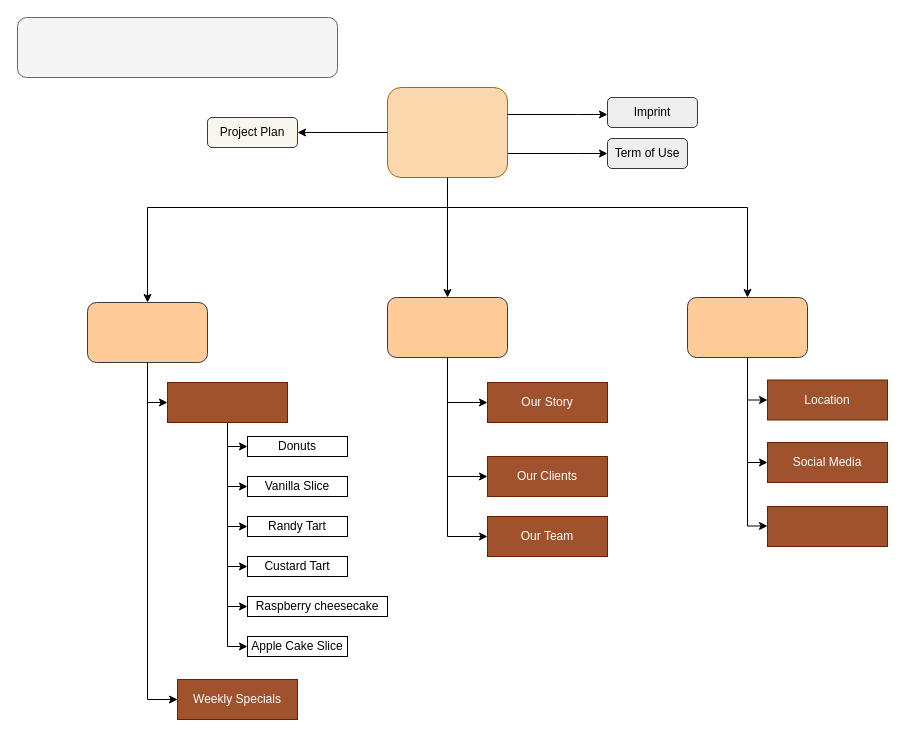
This 905x737 diagram has some shape labels left out. Each missing label, with the centre of its shape:
"About Us" goes at point 447,327.
"Get in touch!" goes at point 747,327.
"Home" goes at point 447,132.
"Newsletter" goes at point 827,526.
"Our Baked Goods" goes at point 147,332.
"Pastries" goes at point 227,402.
"Petite Treats - Flowchart/Site diagram" goes at point 177,47.
